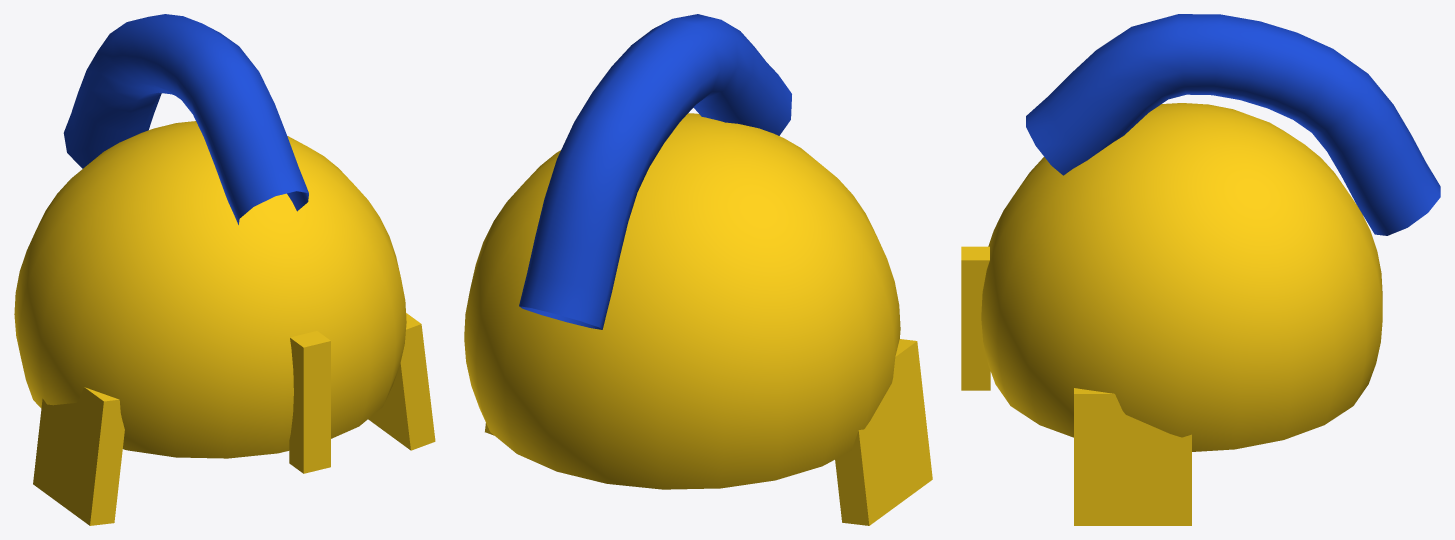
The model's file is helm.glb.
3 views of the same model, side by side, from view 1: azimuth 30°, elevation 25°; view 2: azimuth 150°, elevation 25°; view 3: azimuth 270°, elevation 25° (orthographic). The views are drawn at different scales.
Visible parts, largest first — view 1: helm_dome, helm_plume, helm_cheek_r, helm_nasal, helm_cheek_l; view 2: helm_dome, helm_plume, helm_cheek_r; view 3: helm_dome, helm_plume, helm_cheek_l, helm_nasal.
Part boxes in pixels (<box>): helm_dome: <box>14,121,406,458</box>; helm_plume: <box>63,14,308,224</box>; helm_cheek_r: <box>33,387,124,525</box>; helm_nasal: <box>289,331,330,473</box>; helm_cheek_l: <box>368,313,435,450</box>; helm_dome: <box>464,113,900,489</box>; helm_plume: <box>519,14,791,329</box>; helm_cheek_r: <box>835,339,932,525</box>; helm_dome: <box>981,103,1382,451</box>; helm_plume: <box>1026,14,1440,235</box>; helm_cheek_l: <box>1074,388,1191,525</box>; helm_nasal: <box>961,246,990,390</box>.
Bounding box in the file's own units: 0.252 × 0.2853 × 0.2932.
